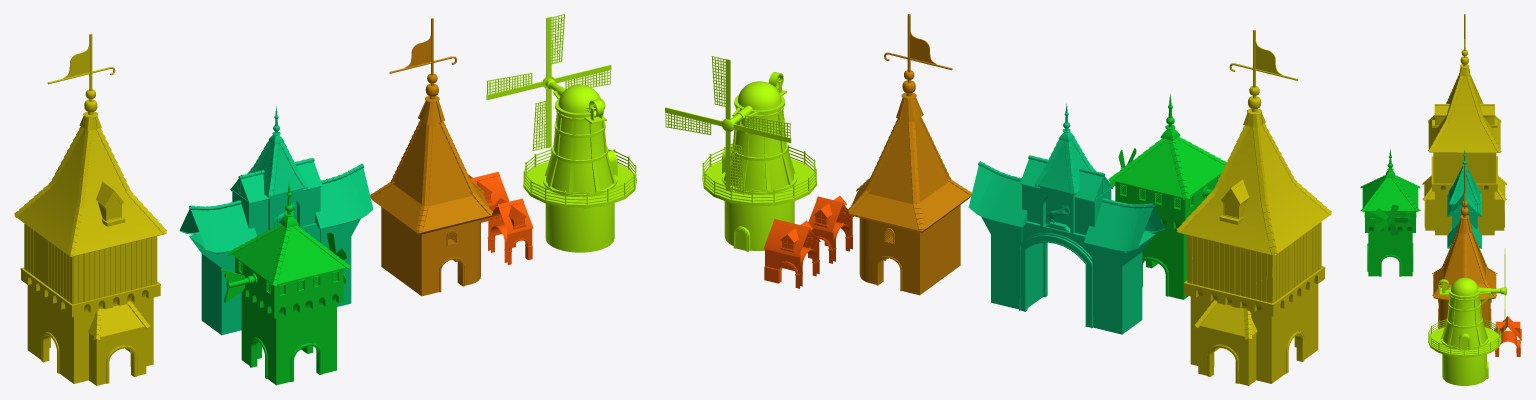
The model's file is Big_Gates_1.fbx.
3 views of the same model, side by side, from view 1: azimuth 30°, elevation 25°; view 2: azimuth 150°, elevation 25°; view 3: azimuth 270°, elevation 25° (orthographic). The views are drawn at different scales.
Parts seen in each view (by area): view 1: Tower_2, Tower_3, Tower_1, Gate, Tower_4, Gallery_1, Gallery_2; view 2: Tower_2, Gate, Tower_1, Tower_3, Tower_4, Gallery_2, Gallery_1; view 3: Tower_2, Tower_3, Tower_4, Tower_1, Gate, Gallery_2.
Boxes of the visible parts, x1,y1,x2,y2 form: Tower_2: (14,33,167,385); Tower_3: (486,14,636,252); Tower_1: (370,18,493,296); Gate: (179,106,373,335); Tower_4: (219,181,350,385); Gallery_1: (487,197,533,264); Gallery_2: (468,172,509,235); Tower_2: (1176,30,1331,385); Gate: (968,103,1164,334); Tower_1: (847,14,971,295); Tower_3: (665,56,816,251); Tower_4: (1108,93,1226,299); Gallery_2: (763,219,820,288); Gallery_1: (808,195,853,263); Tower_2: (1422,14,1506,235); Tower_3: (1428,248,1506,385); Tower_4: (1360,148,1420,276); Tower_1: (1432,165,1497,328); Gate: (1447,148,1481,248); Gallery_2: (1494,316,1521,356).
Size of the model in its own units: 6019 by 3092 by 2173.
